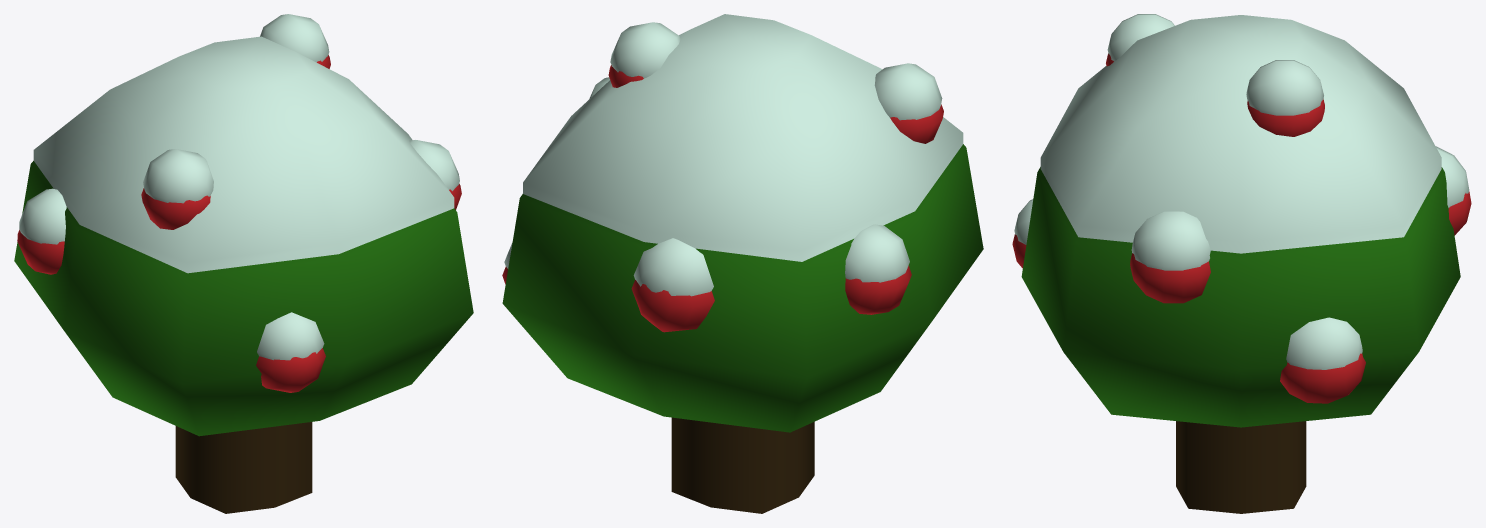
Rendered from winter-tree-apples-short-g-v2.glb.
3 views of the same model, side by side, from view 1: azimuth 30°, elevation 25°; view 2: azimuth 150°, elevation 25°; view 3: azimuth 270°, elevation 25° (orthographic). The views are drawn at different scales.
Parts seen in each view (by area): view 1: WinterTreeApplesShortG_v2; view 2: WinterTreeApplesShortG_v2; view 3: WinterTreeApplesShortG_v2.
Boxes of the visible parts, box(x1,y1,x2,y2) form: WinterTreeApplesShortG_v2: box(14, 14, 473, 513); WinterTreeApplesShortG_v2: box(502, 14, 983, 513); WinterTreeApplesShortG_v2: box(1012, 14, 1471, 513).
Bounding box in the file's own units: 173 × 192 × 173.
Materials: 1 (1 with a texture image).
